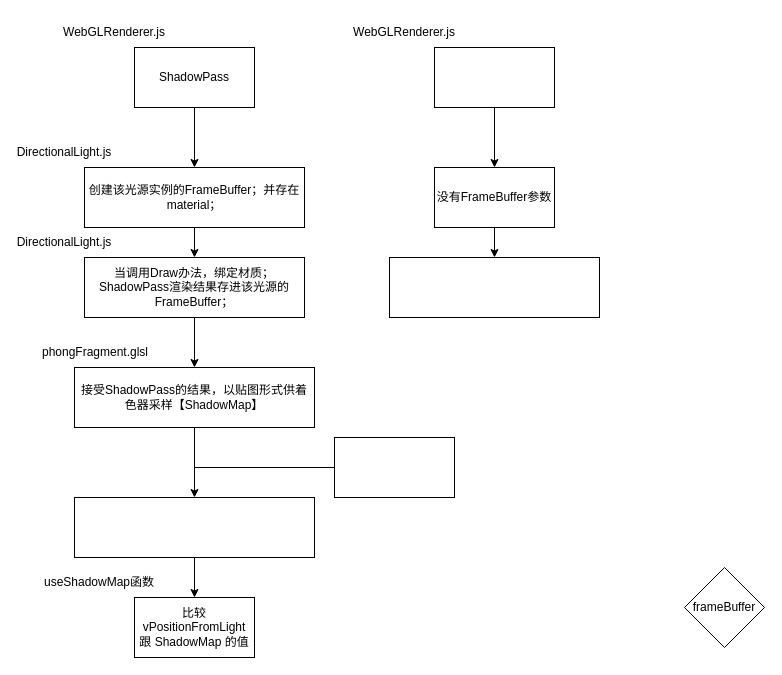
This 782x675 diagram has some shape labels left out. Each missing label, with the centre of its shape:
"cameraPass" goes at (x=494, y=77).
"光源生成ShadowMap所用的MVP矩阵【CalcLightMVP】" goes at (x=394, y=467).
"绑定到空的FrameBuffer，即屏幕上" goes at (x=494, y=287).
"顶点坐标 * uLightMVP = vPositionFromLight" goes at (x=194, y=527).
